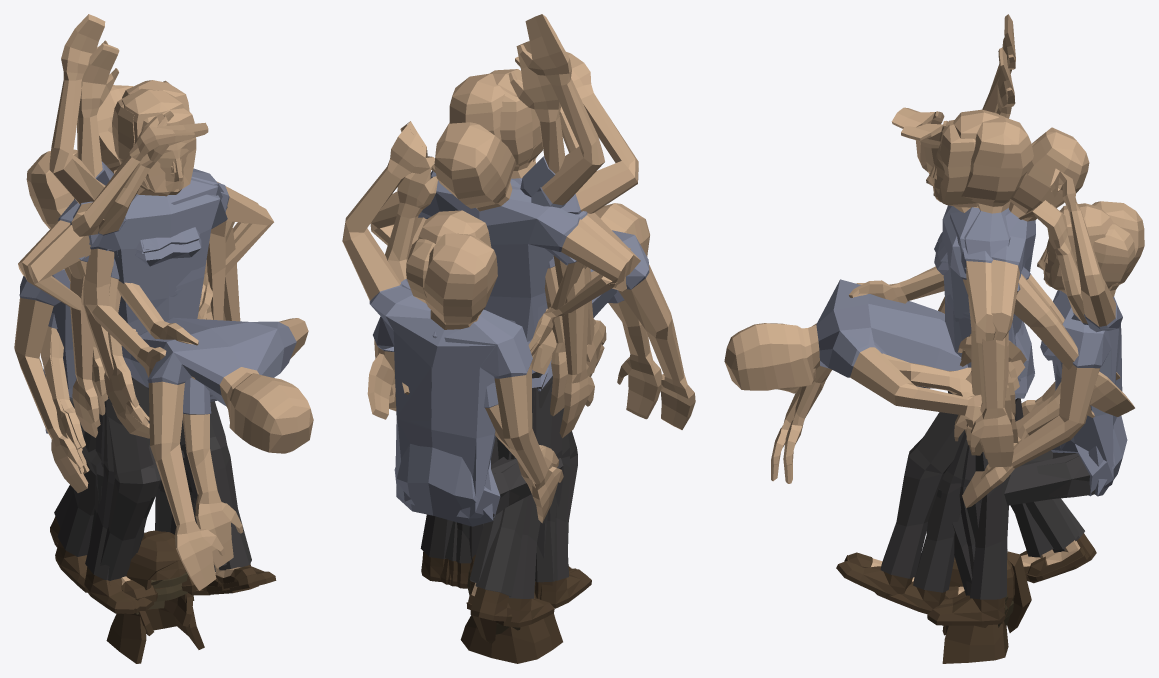
Rendered from poses.glb.
3 views of the same model, side by side, from view 1: azimuth 30°, elevation 25°; view 2: azimuth 150°, elevation 25°; view 3: azimuth 270°, elevation 25° (orthographic). The views are drawn at different scales.
Visible parts, largest first — view 1: Male_PickingUp, Male_Walking, Male_Standing_Hips, Male_Standing_Waving, Male_Standing_CoveringEyes, Male_Running, Female_PickingUp, Male_Standing, Male_Sitting_Cheering, Male_Sitting, Female_Walking, Woman_Standing_Waving (+10 smaller); view 2: Male_Sitting_Cheering, Looking_Up, Male_Sitting, Male_Standing_Waving, Male_PickingUp, Female_Sitting_Cheering, Male_Running, Male_Standing, Male_Standing_CoveringEyes, Female_Sitting, Male_Walking, Male_Standing_Hips (+9 smaller); view 3: Male_PickingUp, Male_Standing_Waving, Male_Running, Male_Sitting, Male_Walking, Looking_Up, Male_Sitting_Cheering, Female_Running, Female_Sitting_Cheering, Female_Sitting, Male_Standing_CoveringEyes, Male_Standing_Hips (+7 smaller).
Boxes of the visible parts, <box> form: Male_PickingUp: <box>99,317,313,613</box>; Male_Walking: <box>55,107,258,594</box>; Male_Standing_Hips: <box>27,178,273,613</box>; Male_Standing_Waving: <box>49,14,240,610</box>; Male_Standing_CoveringEyes: <box>71,88,227,610</box>; Male_Running: <box>50,159,276,592</box>; Female_PickingUp: <box>127,378,243,600</box>; Male_Standing: <box>70,93,226,591</box>; Male_Sitting_Cheering: <box>14,80,170,610</box>; Male_Sitting: <box>16,153,144,603</box>; Female_Walking: <box>104,141,229,591</box>; Woman_Standing_Waving: <box>77,43,146,598</box>; Male_Sitting_Cheering: <box>342,121,564,592</box>; Looking_Up: <box>370,122,629,598</box>; Male_Sitting: <box>373,210,563,586</box>; Male_Standing_Waving: <box>420,14,604,599</box>; Male_PickingUp: <box>448,203,695,584</box>; Female_Sitting_Cheering: <box>385,164,558,526</box>; Male_Running: <box>367,134,630,621</box>; Male_Standing: <box>457,90,594,588</box>; Male_Standing_CoveringEyes: <box>456,52,638,588</box>; Female_Sitting: <box>396,382,551,523</box>; Male_Walking: <box>495,159,604,627</box>; Male_Standing_Hips: <box>389,191,640,608</box>; Male_PickingUp: <box>724,279,1005,607</box>; Male_Standing_Waving: <box>927,14,1033,625</box>; Male_Running: <box>836,274,1134,597</box>; Male_Sitting: <box>944,203,1121,604</box>; Male_Walking: <box>874,120,1040,614</box>; Looking_Up: <box>948,127,1089,393</box>; Male_Sitting_Cheering: <box>967,168,1144,601</box>; Female_Running: <box>844,266,1120,581</box>; Female_Sitting_Cheering: <box>949,200,1135,588</box>; Female_Sitting: <box>959,239,1127,587</box>; Male_Standing_CoveringEyes: <box>891,107,1004,599</box>; Male_Standing_Hips: <box>940,248,1024,611</box>.
Size of the model in its own units: 0.9096 by 2.25 by 1.4.
